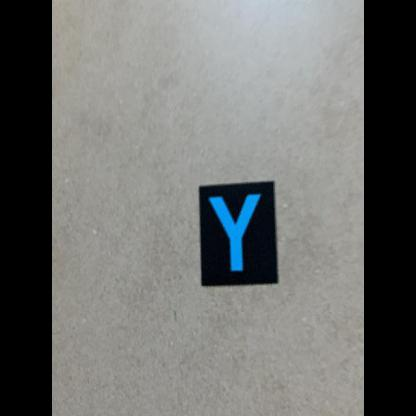y: (198, 180, 280, 289)
